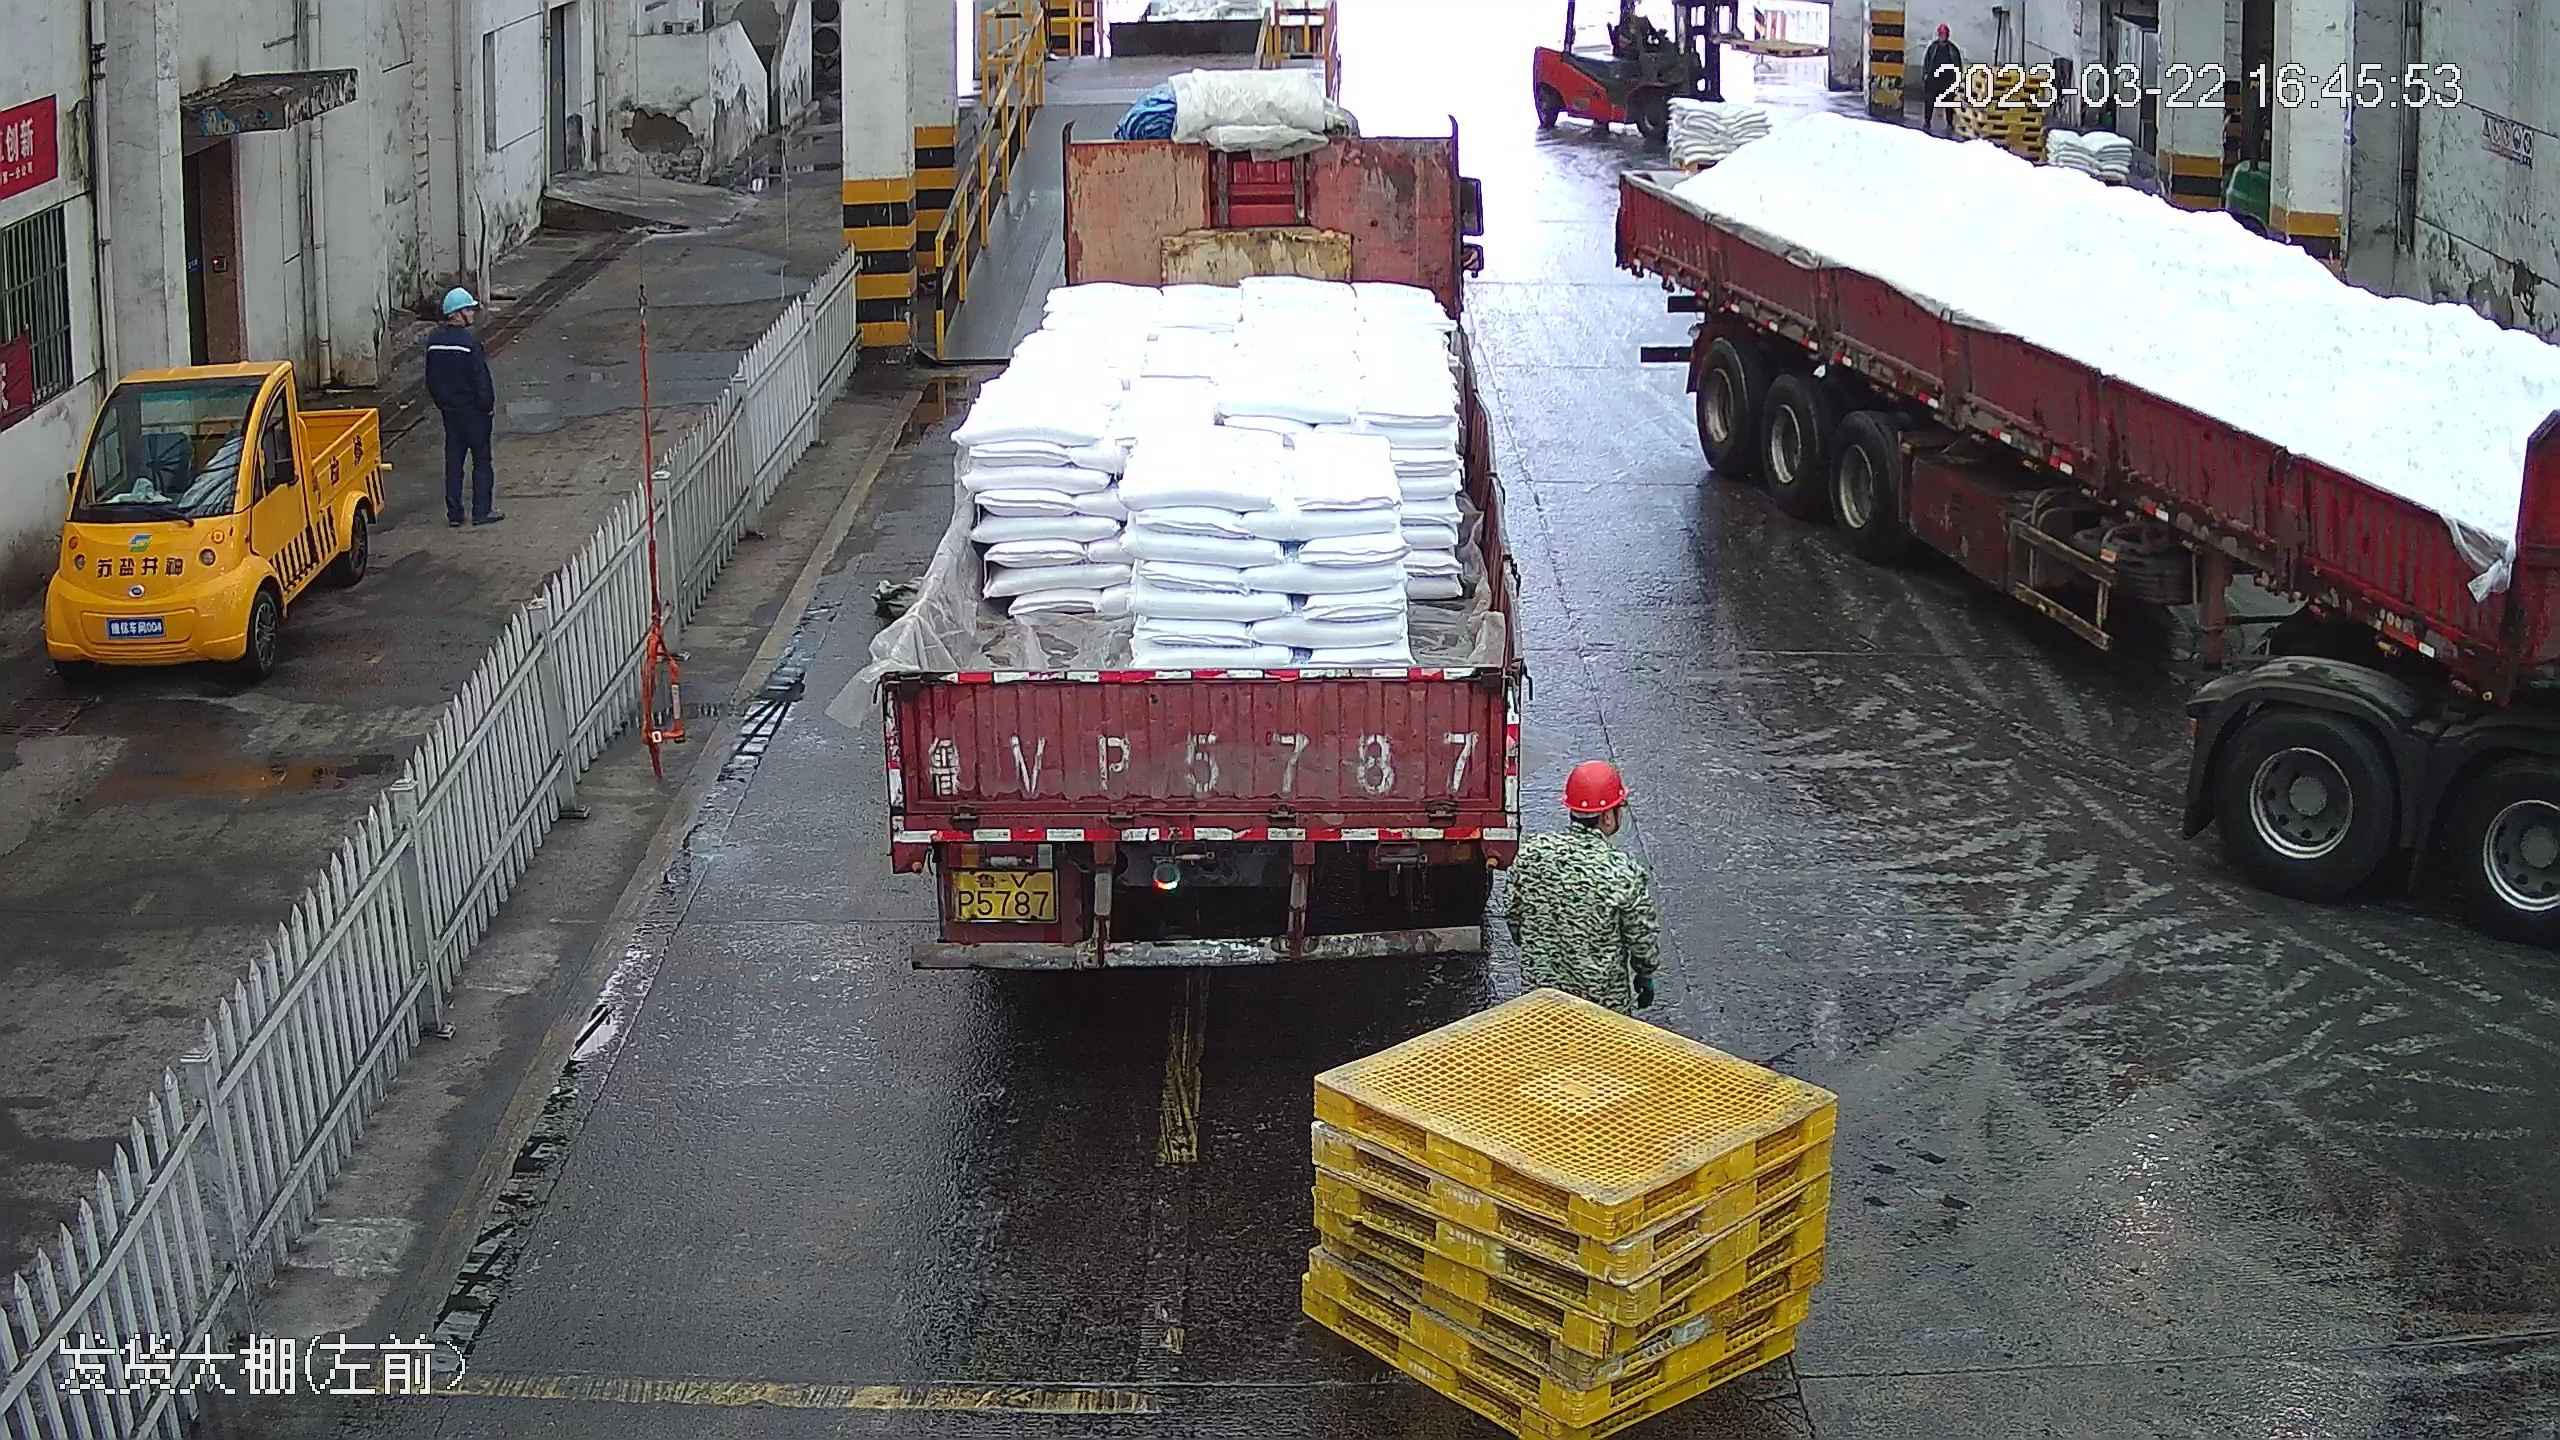head: (1513, 757, 1658, 898), (423, 283, 489, 359)
helmet: (1559, 757, 1630, 811), (439, 284, 476, 314)
people: (418, 282, 506, 531)
truck: (869, 30, 1539, 976)
